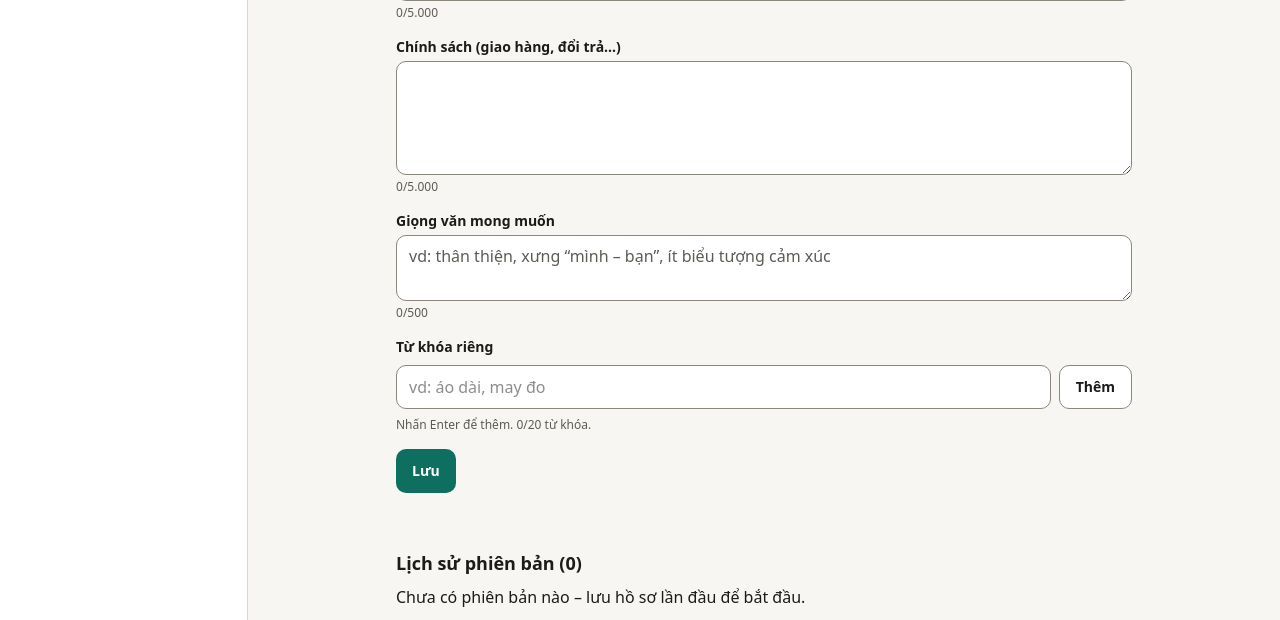
it: BusinessProfilePage – chủ tài khoản › lưu không đổi → role=status "Không có thay đổi để lưu"
The image size is (1280, 620).
(page scrolled)
Click the button "Lưu" at (426, 471), box [396,449,456,493]
(page scrolled)
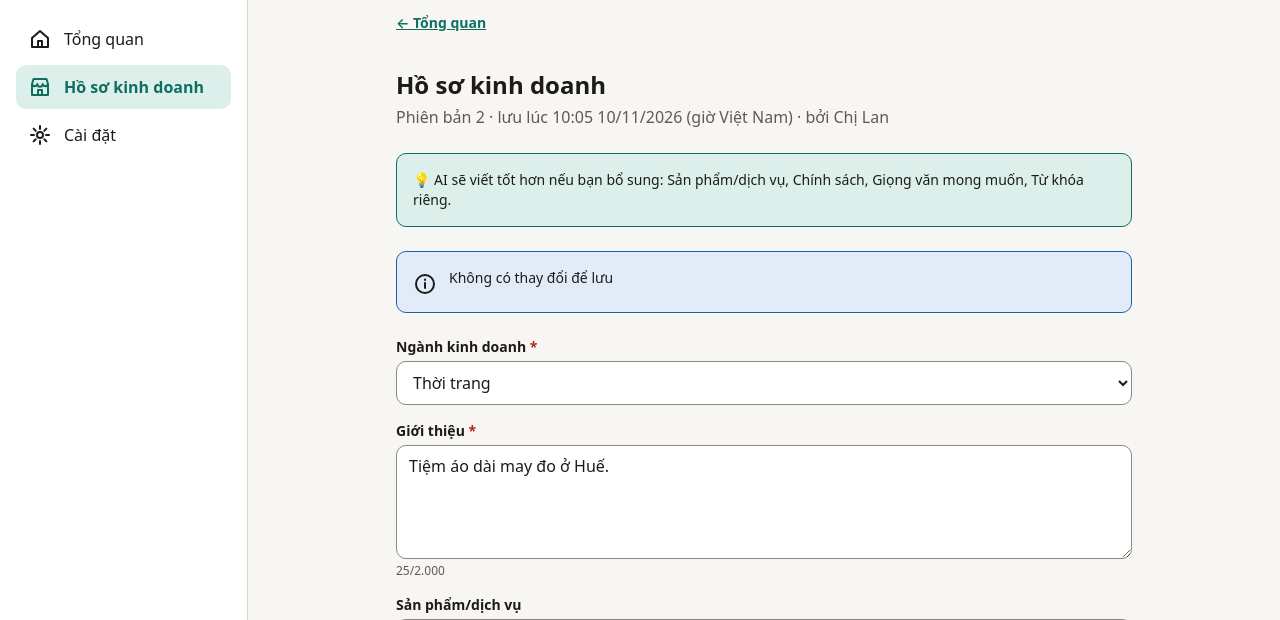
Expected: the message reads "Không có thay đổi để lưu", [449,268,613,287]
